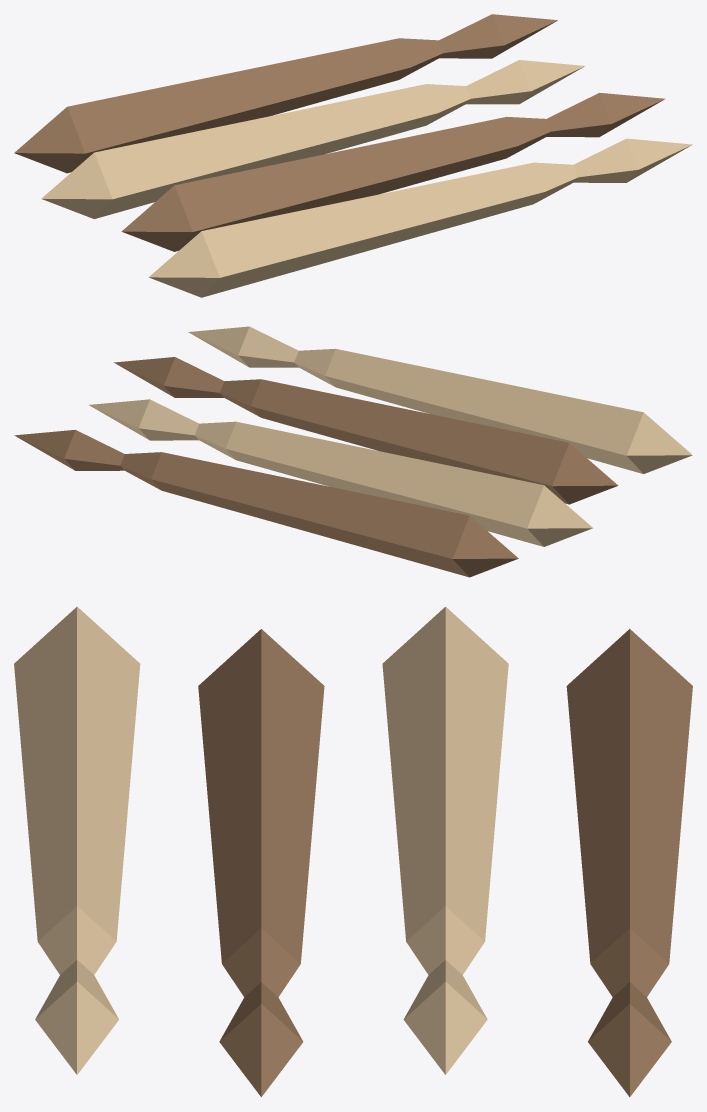
The model's file is prop-lace-bobbin-set.fbx.
The picture shows the model from 3 angles, top to bottom: view 1: azimuth 30°, elevation 25°; view 2: azimuth 150°, elevation 25°; view 3: azimuth 270°, elevation 25°; orthographic projection. The views are drawn at different scales.
Parts seen in each view (by area): view 1: prop-lace-bobbin-set; view 2: prop-lace-bobbin-set; view 3: prop-lace-bobbin-set.
Boxes of the visible parts, box(x1,y1,x2,y2) form: prop-lace-bobbin-set: box(14, 14, 692, 297); prop-lace-bobbin-set: box(14, 326, 692, 577); prop-lace-bobbin-set: box(14, 606, 692, 1097).
Bounding box in the file's own units: 8.6 × 0.96 × 5.16.
